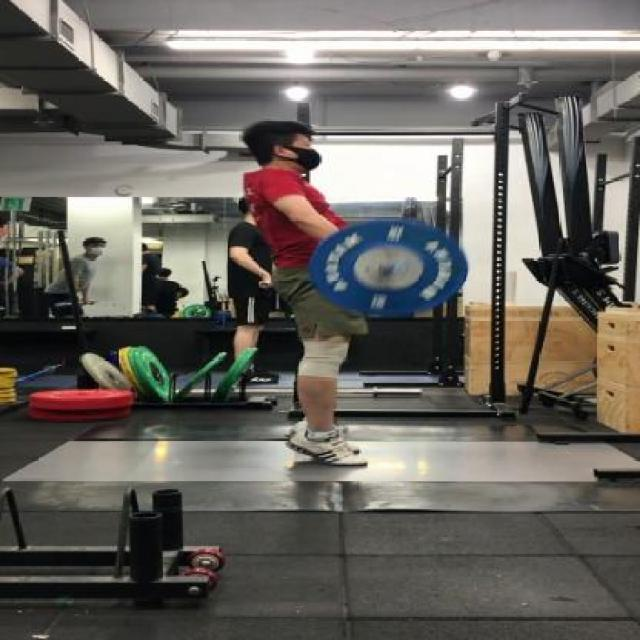Barbell: (374, 256, 404, 278)
